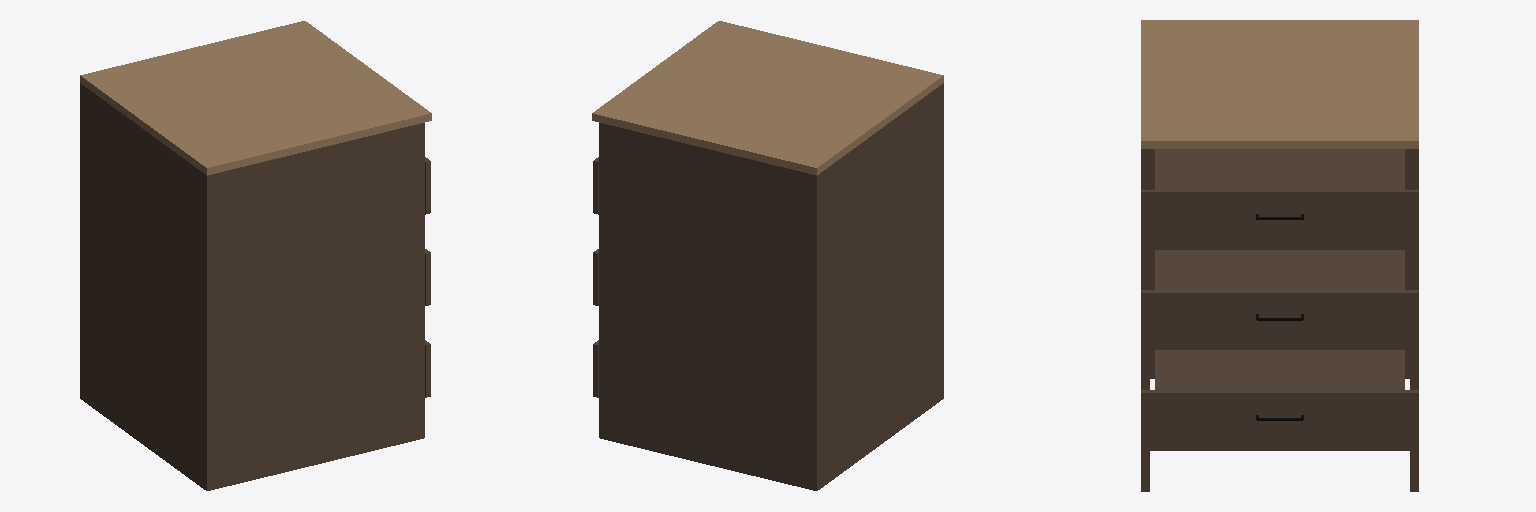
URDF robot description (mk_station):
<robot name="mk_station" version="1.0">
  <joint name="top_drawer_joint" type="prismatic">
    <limit lower="0" upper="0.5" effort="0.00000" velocity="0.00000"/>
    <origin rpy="0.00000 0.00000 0.00000" xyz="0.00000 0.00000 0.66800"/>
    <parent link="body"/>
    <child link="top_drawer"/>
    <axis xyz="1.00000 0.00000 0.00000"/>
  </joint>
  <joint name="middle_drawer_joint" type="prismatic">
    <limit lower="0" upper="0.5" effort="0.00000" velocity="0.00000"/>
    <origin rpy="0.00000 0.00000 0.00000" xyz="0.00000 0.00000 0.42300"/>
    <parent link="body"/>
    <child link="middle_drawer"/>
    <axis xyz="1.00000 0.00000 0.00000"/>
  </joint>
  <joint name="bottom_drawer_joint" type="prismatic">
    <limit lower="0" upper="0.5" effort="0.00000" velocity="0.00000"/>
    <origin rpy="0.00000 0.00000 0.00000" xyz="0.00000 0.00000 0.17800"/>
    <parent link="body"/>
    <child link="bottom_drawer"/>
    <axis xyz="1.00000 0.00000 0.00000"/>
  </joint>
  <link name="body">
    <collision name="body_back_collision">
      <origin rpy="0.00000 0.00000 0.00000" xyz="-0.30500 0.00000 0.42250"/>
      <geometry>
        <box size="0.02000 0.61500 0.84500"/>
      </geometry>
    </collision>
    <visual name="body_back">
      <origin rpy="0.00000 0.00000 0.00000" xyz="-0.30500 0.00000 0.42250"/>
      <material name="gray_wooden"/>
      <geometry>
        <box size="0.02000 0.61500 0.84500"/>
      </geometry>
    </visual>
    <collision name="body_left_collision">
      <origin rpy="0.00000 0.00000 0.00000" xyz="0.00000 -0.29750 0.42250"/>
      <geometry>
        <box size="0.59000 0.02000 0.84500"/>
      </geometry>
    </collision>
    <visual name="body_left">
      <origin rpy="0.00000 0.00000 0.00000" xyz="0.00000 -0.29750 0.42250"/>
      <material name="gray_wooden"/>
      <geometry>
        <box size="0.59000 0.02000 0.84500"/>
      </geometry>
    </visual>
    <collision name="body_right_collision">
      <origin rpy="0.00000 0.00000 0.00000" xyz="0.00000 0.29750 0.42250"/>
      <geometry>
        <box size="0.59000 0.02000 0.84500"/>
      </geometry>
    </collision>
    <visual name="body_right">
      <origin rpy="0.00000 0.00000 0.00000" xyz="0.00000 0.29750 0.42250"/>
      <material name="gray_wooden"/>
      <geometry>
        <box size="0.59000 0.02000 0.84500"/>
      </geometry>
    </visual>
    <collision name="tabletop_collision">
      <origin rpy="0.00000 0.00000 0.00000" xyz="0.00000 0.00000 0.85500"/>
      <geometry>
        <box size="0.63000 0.61500 0.02000"/>
      </geometry>
    </collision>
    <visual name="tabletop">
      <origin rpy="0.00000 0.00000 0.00000" xyz="0.00000 0.00000 0.85500"/>
      <material name="stone"/>
      <geometry>
        <box size="0.63000 0.61500 0.02000"/>
      </geometry>
    </visual>
  </link>
  <link name="top_drawer">
    <visual name="handle0">
      <origin rpy="0.00000 0.00000 0.00000" xyz="0.34250 0.00000 0.02"/>
      <material name="black"/>
      <geometry>
        <box size="0.005000 0.10000 0.00500"/>
      </geometry>
    </visual>
    <visual name="handle1">
      <origin rpy="0.00000 0.00000 0.00000" xyz="0.33250 -0.05000 0.02"/>
      <material name="black"/>
      <geometry>
        <box size="0.020000 0.00500 0.00500"/>
      </geometry>
    </visual>
    <visual name="handle2">
      <origin rpy="0.00000 0.00000 0.00000" xyz="0.33250 0.05000 0.02"/>
      <material name="black"/>
      <geometry>
        <box size="0.020000 0.00500 0.00500"/>
      </geometry>
    </visual>
    <collision name="drawer_front_collision">
      <origin rpy="0.00000 0.00000 0.00000" xyz="0.30500 0.00000 0.0"/>
      <geometry>
        <box size="0.015000 0.61500 0.14000"/>
      </geometry>
    </collision>
    <visual name="drawer_front">
      <origin rpy="0.00000 0.00000 0.00000" xyz="0.30500 0.00000 0.0"/>
      <material name="gray_wooden"/>
      <geometry>
        <box size="0.015000 0.61500 0.14000"/>
      </geometry>
    </visual>
    <collision name="drawer_back_collision">
      <origin rpy="0.00000 0.00000 0.00000" xyz="-0.28500 0.00000 -0.02"/>
      <geometry>
        <box size="0.02000 0.51500 0.10000"/>
      </geometry>
    </collision>
    <visual name="drawer_back">
      <origin rpy="0.00000 0.00000 0.00000" xyz="-0.28500 0.00000 -0.02"/>
      <material name="white_wooden"/>
      <geometry>
        <box size="0.02000 0.51500 0.10000"/>
      </geometry>
    </visual>
    <collision name="drawer_interior_bottom_collision">
      <origin rpy="0.00000 0.00000 0.00000" xyz="0.00000 0.00000 -0.06"/>
      <geometry>
        <box size="0.55000 0.51500 0.02000"/>
      </geometry>
    </collision>
    <visual name="drawer_interior_bottom">
      <origin rpy="0.00000 0.00000 0.00000" xyz="0.00000 0.00000 -0.06"/>
      <material name="white_wooden"/>
      <geometry>
        <box size="0.55000 0.51500 0.02000"/>
      </geometry>
    </visual>
    <collision name="drawer_interior_front_collision">
      <origin rpy="0.00000 0.00000 0.00000" xyz="0.28500 0.00000 -0.02"/>
      <geometry>
        <box size="0.02000 0.51500 0.10000"/>
      </geometry>
    </collision>
    <visual name="drawer_interior_front">
      <origin rpy="0.00000 0.00000 0.00000" xyz="0.28500 0.00000 -0.02"/>
      <material name="white_wooden"/>
      <geometry>
        <box size="0.02000 0.51500 0.10000"/>
      </geometry>
    </visual>
    <collision name="drawer_left_collision">
      <origin rpy="0.00000 0.00000 0.00000" xyz="0.00000 -0.26750 -0.02"/>
      <geometry>
        <box size="0.59000 0.02000 0.10000"/>
      </geometry>
    </collision>
    <visual name="drawer_left">
      <origin rpy="0.00000 0.00000 0.00000" xyz="0.00000 -0.26750 -0.02"/>
      <material name="white_wooden"/>
      <geometry>
        <box size="0.59000 0.02000 0.10000"/>
      </geometry>
    </visual>
    <collision name="drawer_right_collision">
      <origin rpy="0.00000 0.00000 0.00000" xyz="0.00000 0.26750 -0.02"/>
      <geometry>
        <box size="0.59000 0.02000 0.10000"/>
      </geometry>
    </collision>
    <visual name="drawer_right">
      <origin rpy="0.00000 0.00000 0.00000" xyz="0.00000 0.26750 -0.02"/>
      <material name="white_wooden"/>
      <geometry>
        <box size="0.59000 0.02000 0.10000"/>
      </geometry>
    </visual>
  </link>
  <link name="middle_drawer">
    <visual name="handle0">
      <origin rpy="0.00000 0.00000 0.00000" xyz="0.34250 0.00000 0.02"/>
      <material name="black"/>
      <geometry>
        <box size="0.005000 0.10000 0.00500"/>
      </geometry>
    </visual>
    <visual name="handle1">
      <origin rpy="0.00000 0.00000 0.00000" xyz="0.33250 -0.05000 0.02"/>
      <material name="black"/>
      <geometry>
        <box size="0.020000 0.00500 0.00500"/>
      </geometry>
    </visual>
    <visual name="handle2">
      <origin rpy="0.00000 0.00000 0.00000" xyz="0.33250 0.05000 0.02"/>
      <material name="black"/>
      <geometry>
        <box size="0.020000 0.00500 0.00500"/>
      </geometry>
    </visual>
    <collision name="drawer_front_collision">
      <origin rpy="0.00000 0.00000 0.00000" xyz="0.30500 0.00000 0.0"/>
      <geometry>
        <box size="0.015000 0.61500 0.14000"/>
      </geometry>
    </collision>
    <visual name="drawer_front">
      <origin rpy="0.00000 0.00000 0.00000" xyz="0.30500 0.00000 0.0"/>
      <material name="gray_wooden"/>
      <geometry>
        <box size="0.015000 0.61500 0.14000"/>
      </geometry>
    </visual>
    <collision name="drawer_back_collision">
      <origin rpy="0.00000 0.00000 0.00000" xyz="-0.28500 0.00000 -0.02"/>
      <geometry>
        <box size="0.02000 0.51500 0.10000"/>
      </geometry>
    </collision>
    <visual name="drawer_back">
      <origin rpy="0.00000 0.00000 0.00000" xyz="-0.28500 0.00000 -0.02"/>
      <material name="white_wooden"/>
      <geometry>
        <box size="0.02000 0.51500 0.10000"/>
      </geometry>
    </visual>
    <collision name="drawer_interior_bottom_collision">
      <origin rpy="0.00000 0.00000 0.00000" xyz="0.00000 0.00000 -0.06"/>
      <geometry>
        <box size="0.55000 0.51500 0.02000"/>
      </geometry>
    </collision>
    <visual name="drawer_interior_bottom">
      <origin rpy="0.00000 0.00000 0.00000" xyz="0.00000 0.00000 -0.06"/>
      <material name="white_wooden"/>
      <geometry>
        <box size="0.55000 0.51500 0.02000"/>
      </geometry>
    </visual>
    <collision name="drawer_interior_front_collision">
      <origin rpy="0.00000 0.00000 0.00000" xyz="0.28500 0.00000 -0.02"/>
      <geometry>
        <box size="0.02000 0.51500 0.10000"/>
      </geometry>
    </collision>
    <visual name="drawer_interior_front">
      <origin rpy="0.00000 0.00000 0.00000" xyz="0.28500 0.00000 -0.02"/>
      <material name="white_wooden"/>
      <geometry>
        <box size="0.02000 0.51500 0.10000"/>
      </geometry>
    </visual>
    <collision name="drawer_left_collision">
      <origin rpy="0.00000 0.00000 0.00000" xyz="0.00000 -0.26750 -0.02"/>
      <geometry>
        <box size="0.59000 0.02000 0.10000"/>
      </geometry>
    </collision>
    <visual name="drawer_left">
      <origin rpy="0.00000 0.00000 0.00000" xyz="0.00000 -0.26750 -0.02"/>
      <material name="white_wooden"/>
      <geometry>
        <box size="0.59000 0.02000 0.10000"/>
      </geometry>
    </visual>
    <collision name="drawer_right_collision">
      <origin rpy="0.00000 0.00000 0.00000" xyz="0.00000 0.26750 -0.02"/>
      <geometry>
        <box size="0.59000 0.02000 0.10000"/>
      </geometry>
    </collision>
    <visual name="drawer_right">
      <origin rpy="0.00000 0.00000 0.00000" xyz="0.00000 0.26750 -0.02"/>
      <material name="white_wooden"/>
      <geometry>
        <box size="0.59000 0.02000 0.10000"/>
      </geometry>
    </visual>
  </link>
  <link name="bottom_drawer">
    <visual name="handle0">
      <origin rpy="0.00000 0.00000 0.00000" xyz="0.34250 0.00000 0.02"/>
      <material name="black"/>
      <geometry>
        <box size="0.005000 0.10000 0.00500"/>
      </geometry>
    </visual>
    <visual name="handle1">
      <origin rpy="0.00000 0.00000 0.00000" xyz="0.33250 -0.05000 0.02"/>
      <material name="black"/>
      <geometry>
        <box size="0.020000 0.00500 0.00500"/>
      </geometry>
    </visual>
    <visual name="handle2">
      <origin rpy="0.00000 0.00000 0.00000" xyz="0.33250 0.05000 0.02"/>
      <material name="black"/>
      <geometry>
        <box size="0.020000 0.00500 0.00500"/>
      </geometry>
    </visual>
    <collision name="drawer_front_collision">
      <origin rpy="0.00000 0.00000 0.00000" xyz="0.30500 0.00000 0.0"/>
      <geometry>
        <box size="0.015000 0.61500 0.14000"/>
      </geometry>
    </collision>
    <visual name="drawer_front">
      <origin rpy="0.00000 0.00000 0.00000" xyz="0.30500 0.00000 0.0"/>
      <material name="gray_wooden"/>
      <geometry>
        <box size="0.015000 0.61500 0.14000"/>
      </geometry>
    </visual>
    <collision name="drawer_back_collision">
      <origin rpy="0.00000 0.00000 0.00000" xyz="-0.28500 0.00000 -0.02"/>
      <geometry>
        <box size="0.02000 0.51500 0.10000"/>
      </geometry>
    </collision>
    <visual name="drawer_back">
      <origin rpy="0.00000 0.00000 0.00000" xyz="-0.28500 0.00000 -0.02"/>
      <material name="white_wooden"/>
      <geometry>
        <box size="0.02000 0.51500 0.10000"/>
      </geometry>
    </visual>
    <collision name="drawer_interior_bottom_collision">
      <origin rpy="0.00000 0.00000 0.00000" xyz="0.00000 0.00000 -0.06"/>
      <geometry>
        <box size="0.55000 0.51500 0.02000"/>
      </geometry>
    </collision>
    <visual name="drawer_interior_bottom">
      <origin rpy="0.00000 0.00000 0.00000" xyz="0.00000 0.00000 -0.06"/>
      <material name="white_wooden"/>
      <geometry>
        <box size="0.55000 0.51500 0.02000"/>
      </geometry>
    </visual>
    <collision name="drawer_interior_front_collision">
      <origin rpy="0.00000 0.00000 0.00000" xyz="0.28500 0.00000 -0.02"/>
      <geometry>
        <box size="0.02000 0.51500 0.10000"/>
      </geometry>
    </collision>
    <visual name="drawer_interior_front">
      <origin rpy="0.00000 0.00000 0.00000" xyz="0.28500 0.00000 -0.02"/>
      <material name="white_wooden"/>
      <geometry>
        <box size="0.02000 0.51500 0.10000"/>
      </geometry>
    </visual>
    <collision name="drawer_left_collision">
      <origin rpy="0.00000 0.00000 0.00000" xyz="0.00000 -0.26750 -0.02"/>
      <geometry>
        <box size="0.59000 0.02000 0.10000"/>
      </geometry>
    </collision>
    <visual name="drawer_left">
      <origin rpy="0.00000 0.00000 0.00000" xyz="0.00000 -0.26750 -0.02"/>
      <material name="white_wooden"/>
      <geometry>
        <box size="0.59000 0.02000 0.10000"/>
      </geometry>
    </visual>
    <collision name="drawer_right_collision">
      <origin rpy="0.00000 0.00000 0.00000" xyz="0.00000 0.26750 -0.02"/>
      <geometry>
        <box size="0.59000 0.02000 0.10000"/>
      </geometry>
    </collision>
    <visual name="drawer_right">
      <origin rpy="0.00000 0.00000 0.00000" xyz="0.00000 0.26750 -0.02"/>
      <material name="white_wooden"/>
      <geometry>
        <box size="0.59000 0.02000 0.10000"/>
      </geometry>
    </visual>
  </link>
  <material name="gray_wooden">
    <color rgba="0.38824 0.32157 0.27451 1.00000"/>
  </material>
  <material name="stone">
    <color rgba="0.63529 0.52941 0.41176 1.00000"/>
  </material>
  <material name="white_wooden">
    <color rgba="0.38824 0.32157 0.27451 1.00000"/>
  </material>
  <material name="black">
    <color rgba="0.10000 0.10000 0.10000 1.00000"/>
  </material>
</robot>

--- Facts derived from the render (not from the file) ---
Views: 3 orthographic renders of the robot side by side, from view 1: azimuth 30°, elevation 25°; view 2: azimuth 150°, elevation 25°; view 3: azimuth 270°, elevation 25°.
Robot: mk_station — 4 links, 3 joints (3 prismatic); root link body; default pose: every joint at zero.
Visible links, largest first — view 1: body; view 2: body; view 3: body, bottom_drawer, top_drawer, middle_drawer.
Link boxes in pixels (x1,y1,x2,y2): body: (80,21,431,490); body: (592,21,943,490); body: (1141,20,1418,491); bottom_drawer: (1141,350,1418,450); top_drawer: (1141,149,1418,249); middle_drawer: (1141,250,1418,349).
Size in the robot's own frame: 0.66 by 0.615 by 0.865 metres.
Geometry: primitives only (box / cylinder / sphere), no mesh files.